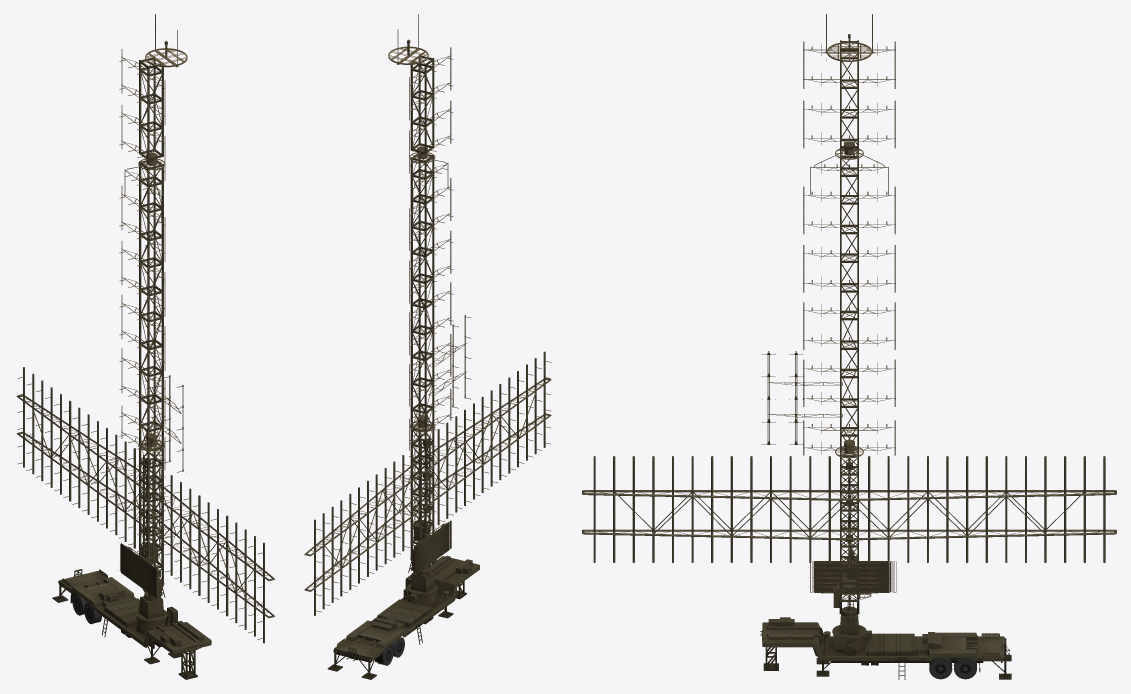
Rendered from ussr_ai_aew_radar_55j6_shop.obj.
The picture shows the model from 3 angles, left to right: view 1: azimuth 30°, elevation 25°; view 2: azimuth 150°, elevation 25°; view 3: azimuth 270°, elevation 25°; orthographic projection. The views are drawn at different scales.
Visible parts, largest first — view 1: vehicle#antenna_target_location_1, vehicle#body_0; view 2: vehicle#antenna_target_location_1, vehicle#body_0; view 3: vehicle#antenna_target_location_1, vehicle#body_0.
Part boxes in pixels (box(x1,y1,x2,y2)): vehicle#antenna_target_location_1: box(16, 14, 274, 643); vehicle#body_0: box(52, 569, 211, 679); vehicle#antenna_target_location_1: box(304, 14, 551, 615); vehicle#body_0: box(327, 555, 479, 679); vehicle#antenna_target_location_1: box(582, 14, 1116, 634); vehicle#body_0: box(760, 617, 1011, 679).
Bounding box in the file's own units: 4.76 × 50.05 × 36.59.
4 materials, 4 textured.
